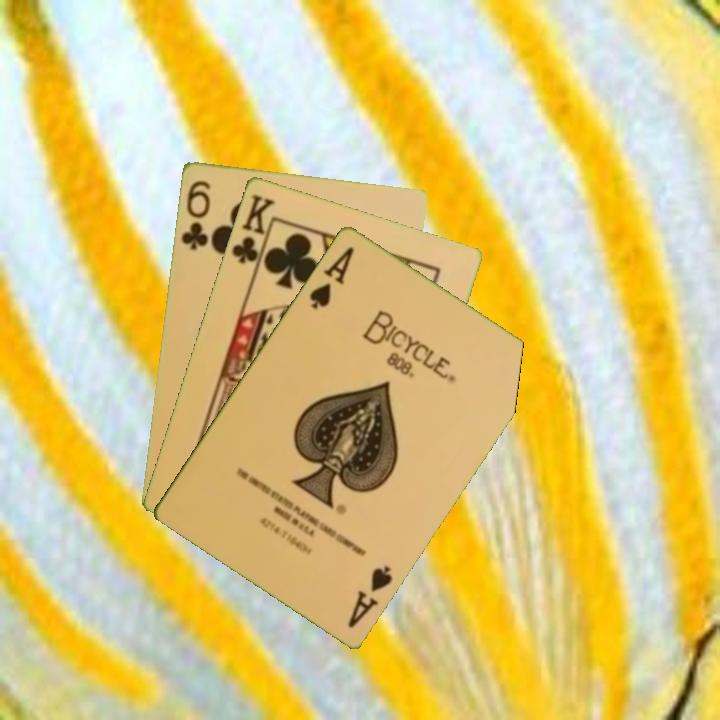6c: (177, 176, 213, 252)
As: (344, 561, 396, 631), (305, 242, 357, 311)
Kc: (227, 190, 278, 274)
